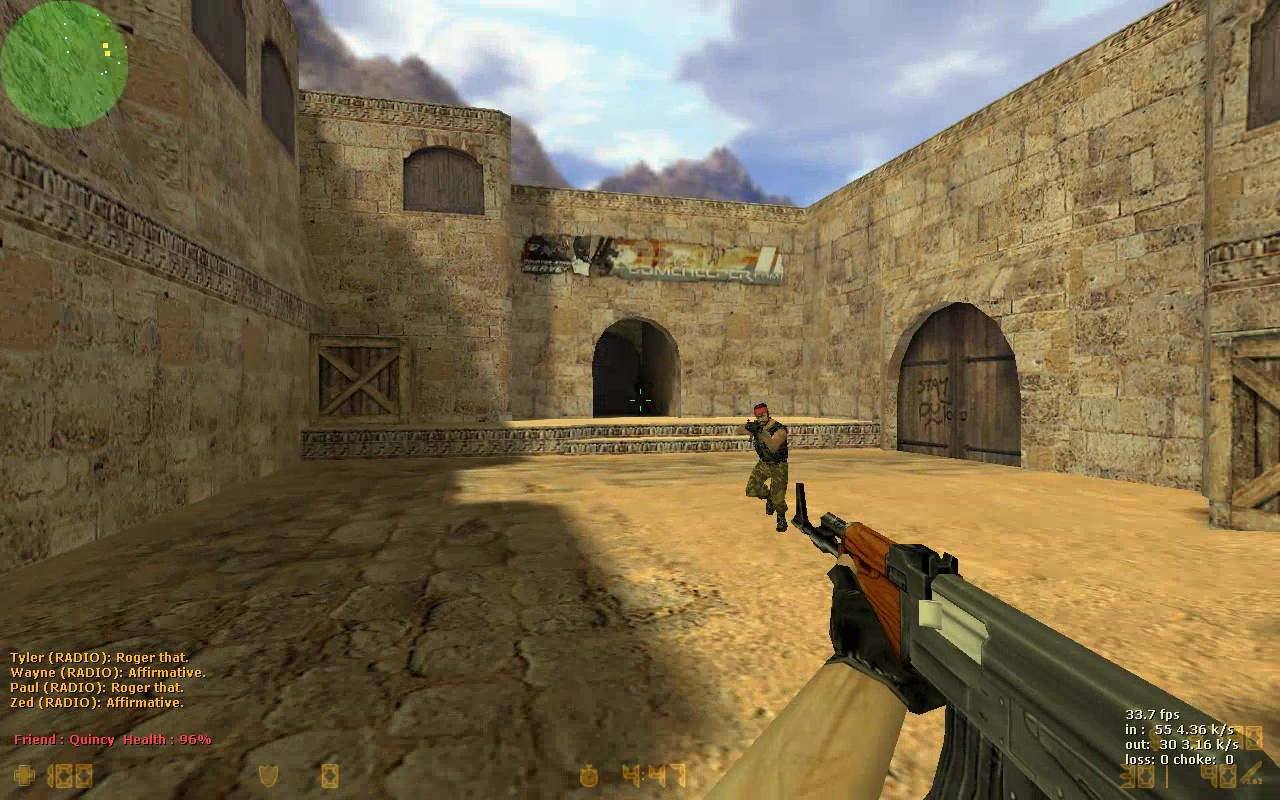terr1: (736, 404, 792, 533)
